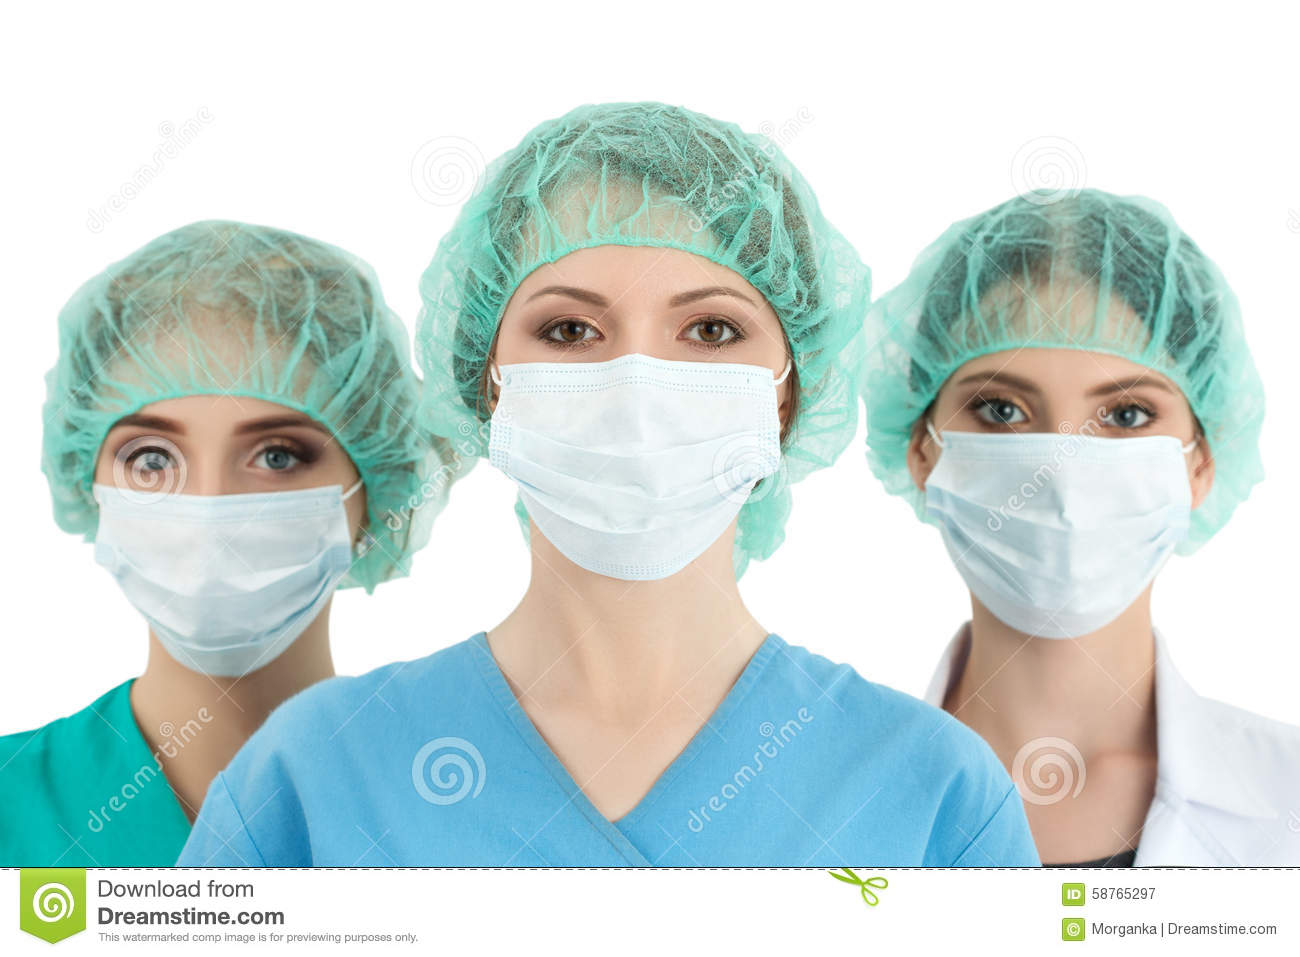mask: (489, 349, 781, 566), (931, 414, 1186, 644), (97, 488, 351, 686)
